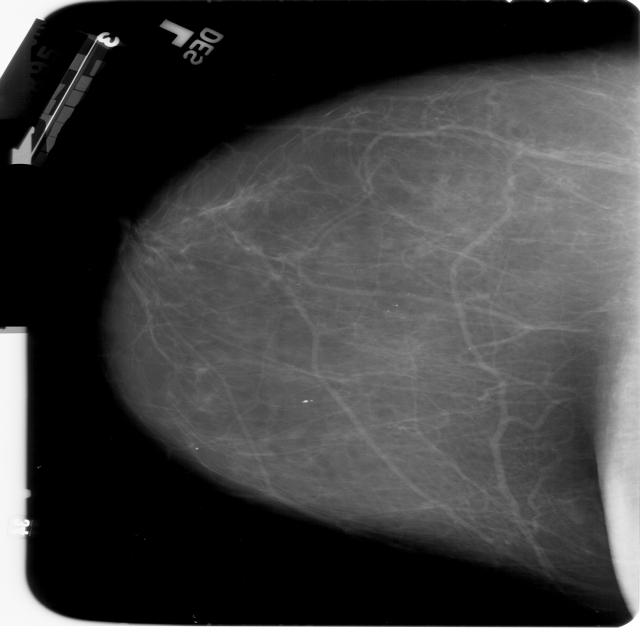normal: (76, 0, 640, 587)
